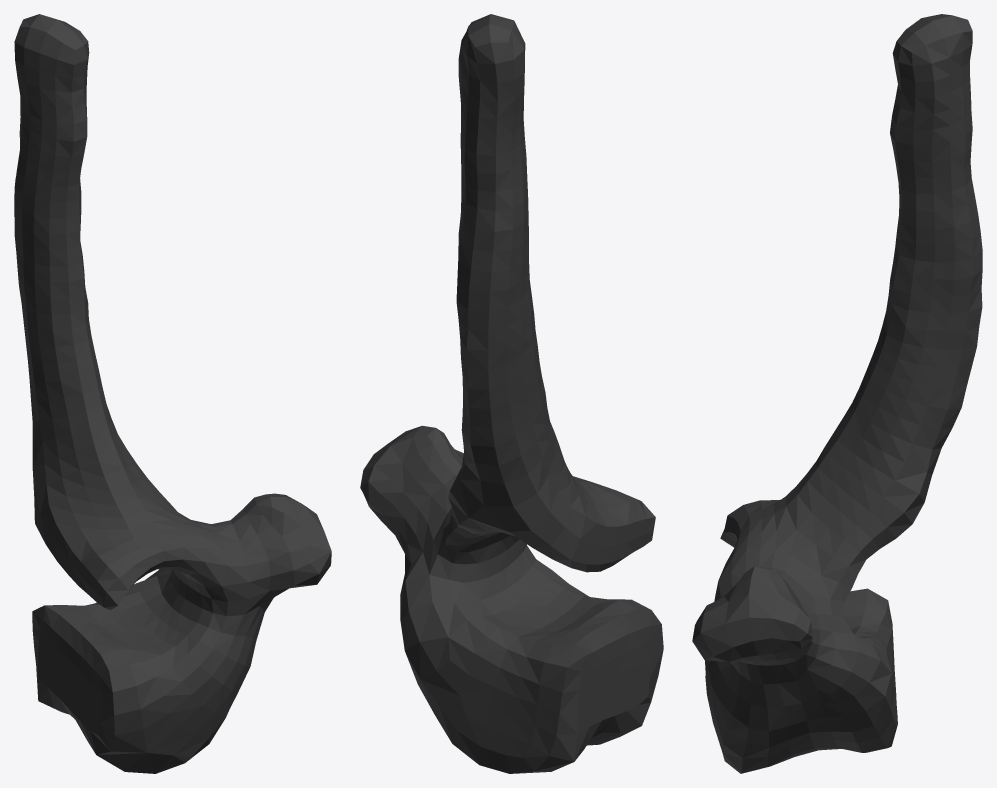
3 renders of one model, left to right at view 1: azimuth 30°, elevation 25°; view 2: azimuth 150°, elevation 25°; view 3: azimuth 270°, elevation 25°, orthographic. The views are drawn at different scales.
Visible parts, largest first — view 1: T3; view 2: T3; view 3: T3.
Part boxes in pixels (x1,y1,x2,y2): T3: (14, 14, 331, 773); T3: (360, 14, 663, 773); T3: (692, 14, 982, 773).
Bounding box in the file's own units: 0.00686 × 0.0202 × 0.00721.
Materials: 1 (1 with a texture image).
